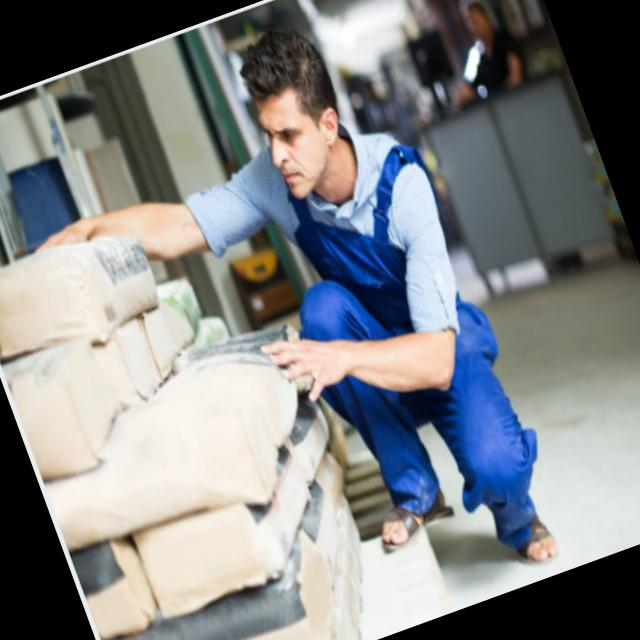KantongSemen: (0, 181, 399, 640)
